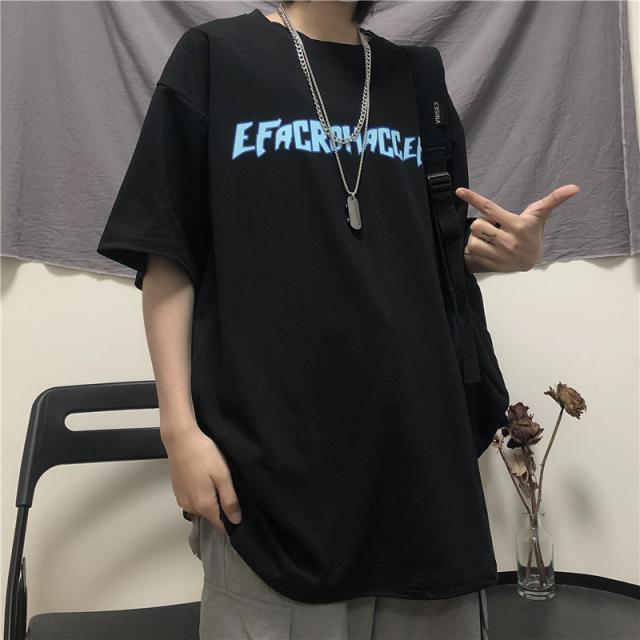shirt: (95, 8, 513, 607)
